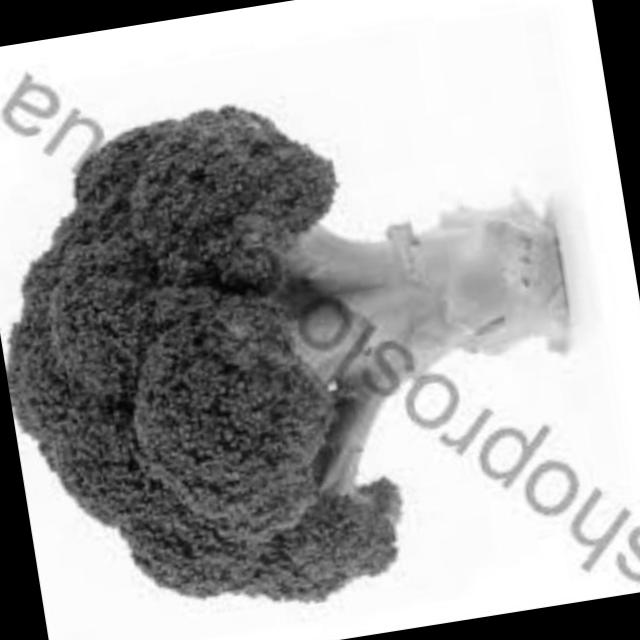bong cai xanh: (0, 45, 607, 640)
